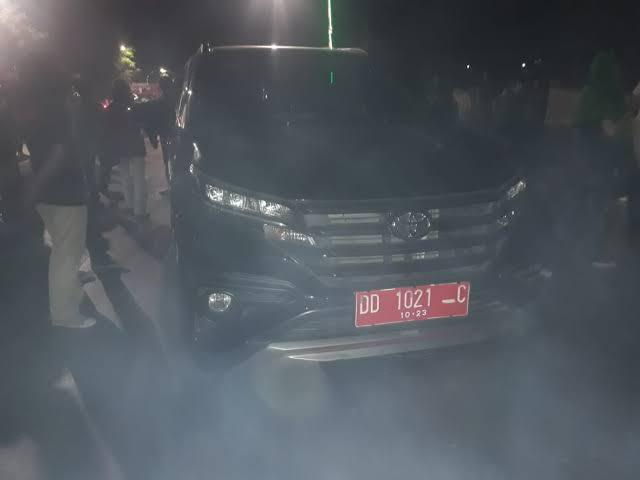plate: (355, 280, 469, 327)
